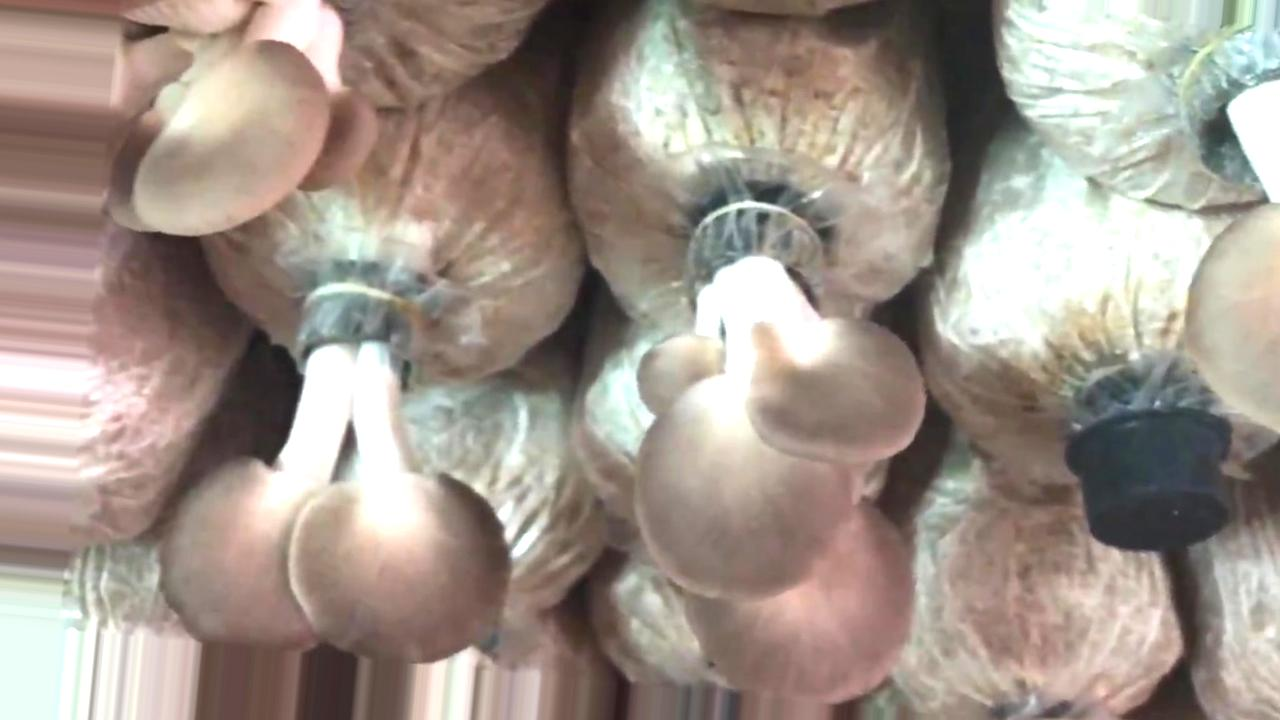nam: (631, 209, 926, 702), (159, 273, 511, 662), (119, 1, 379, 233)
